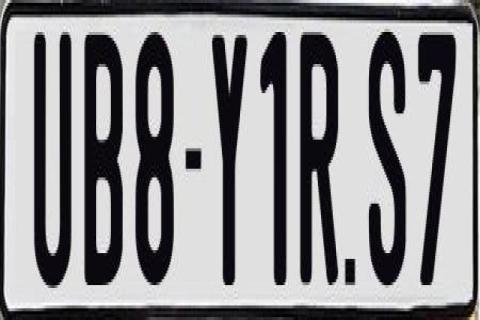0: (417, 29, 461, 297), (136, 26, 175, 291), (258, 27, 286, 280)
B: (82, 32, 124, 285)
R: (300, 29, 340, 291)
S: (368, 23, 408, 276)
U: (34, 32, 78, 288)
Y: (210, 27, 252, 280)
